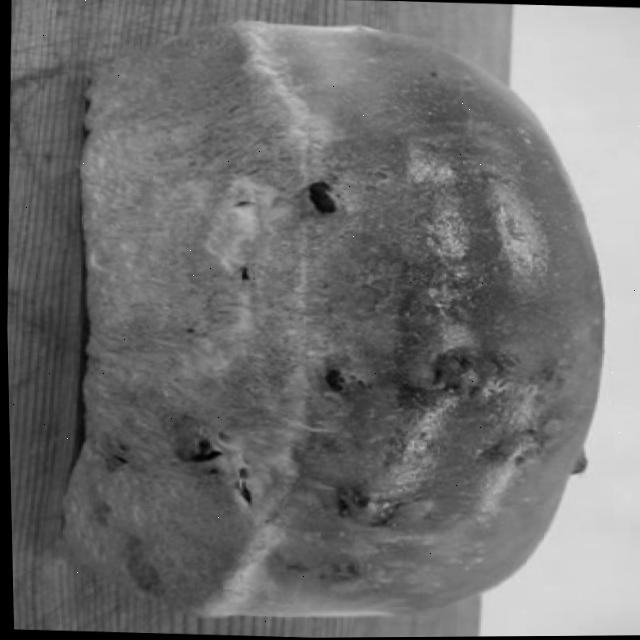面包点心: (6, 0, 599, 640)
